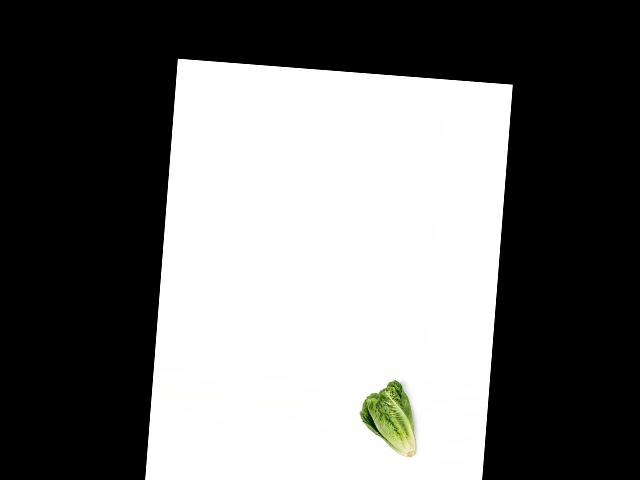lettuce: (357, 378, 423, 463)
